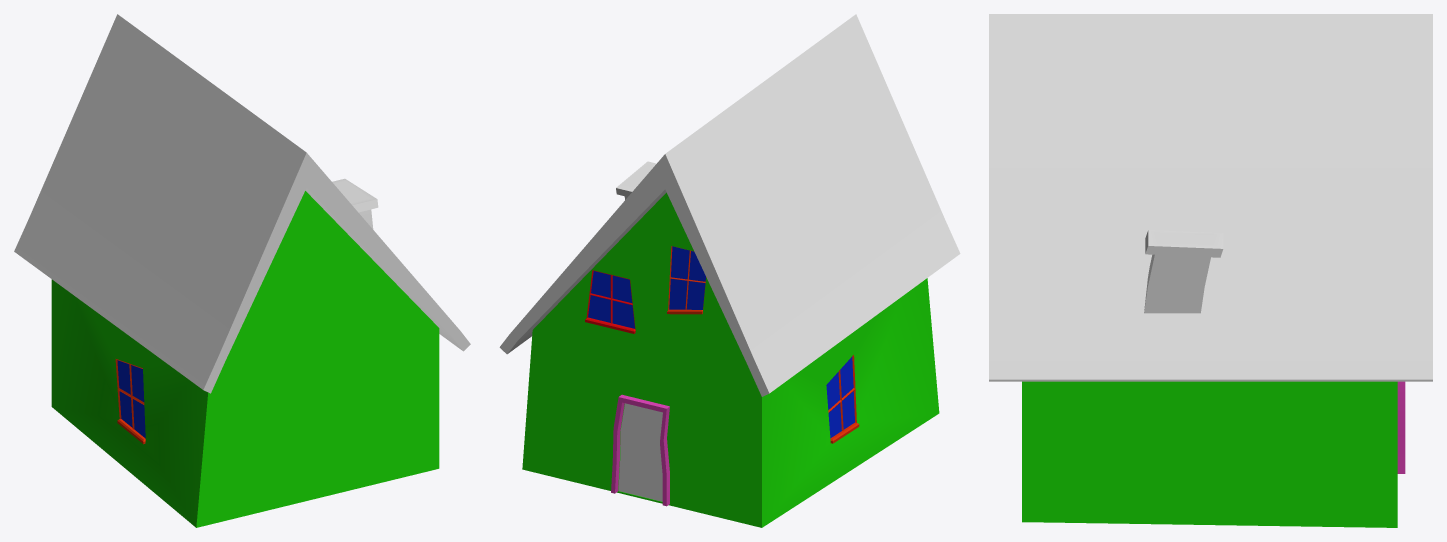
Rendered from Meadowhouse.fbx.
3 views of the same model, side by side, from view 1: azimuth 30°, elevation 25°; view 2: azimuth 150°, elevation 25°; view 3: azimuth 270°, elevation 25° (orthographic). The views are drawn at different scales.
Parts seen in each view (by area): view 1: House, Roof, Window, Chimney; view 2: Roof, House, Door, Window.001, Window.002, Window, Chimney; view 3: Roof, House, Chimney.
Part boxes in pixels (x1,y1,x2,y2): House: (51, 191, 439, 527); Roof: (14, 14, 470, 393); Window: (115, 359, 145, 444); Chimney: (332, 178, 378, 229); Roof: (499, 14, 960, 396); House: (522, 192, 939, 527); Door: (618, 403, 662, 501); Window.001: (585, 270, 635, 333); Window.002: (667, 246, 706, 314); Window: (826, 355, 859, 443); Chimney: (616, 161, 656, 199); Roof: (989, 14, 1432, 381); House: (1022, 381, 1405, 527); Chimney: (1144, 230, 1223, 313).
Bounding box in the file's own units: 710 × 922 × 870.
